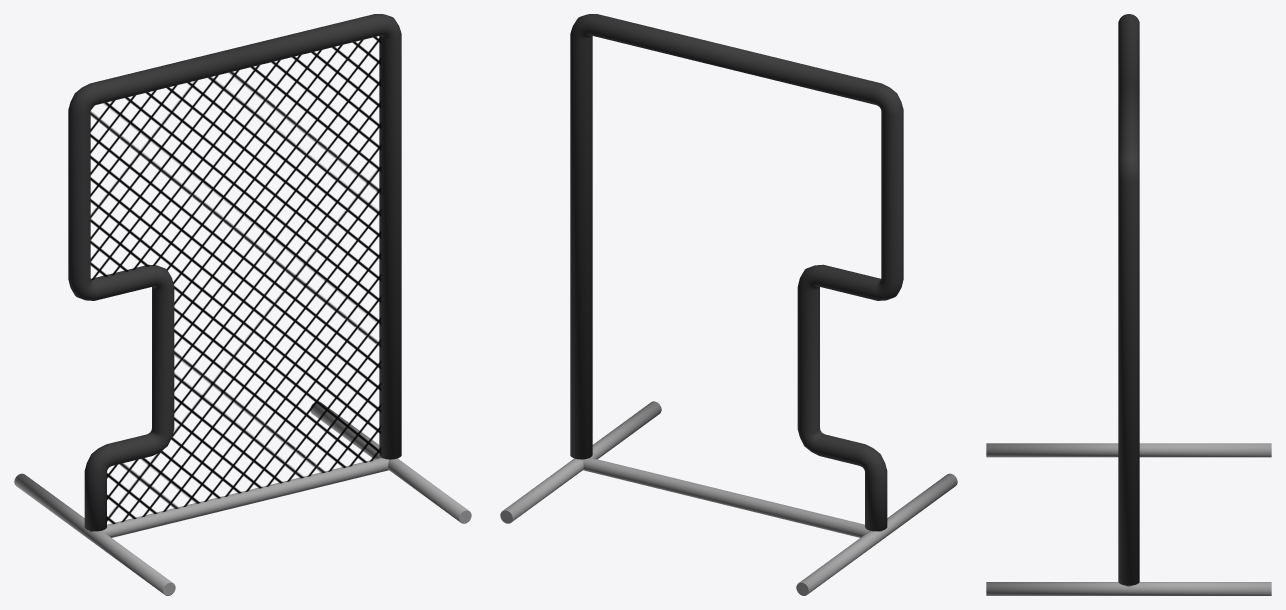
The model's file is Softball Screen.glb.
3 views of the same model, side by side, from view 1: azimuth 30°, elevation 25°; view 2: azimuth 150°, elevation 25°; view 3: azimuth 270°, elevation 25° (orthographic). The views are drawn at different scales.
Visible parts, largest first — view 1: Pipe.006; view 2: Pipe.006; view 3: Pipe.006.
Boxes of the visible parts, bbox=[...] form: Pipe.006: bbox=[14, 14, 471, 595]; Pipe.006: bbox=[500, 14, 957, 595]; Pipe.006: bbox=[986, 14, 1271, 595].
Size of the model in its own units: 1.5 by 1.99 by 1.17.
3 materials, 1 textured.
